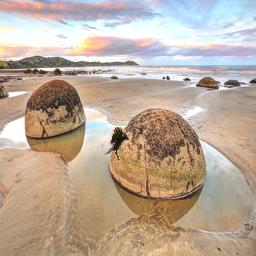Crow: (104, 127, 129, 162)
